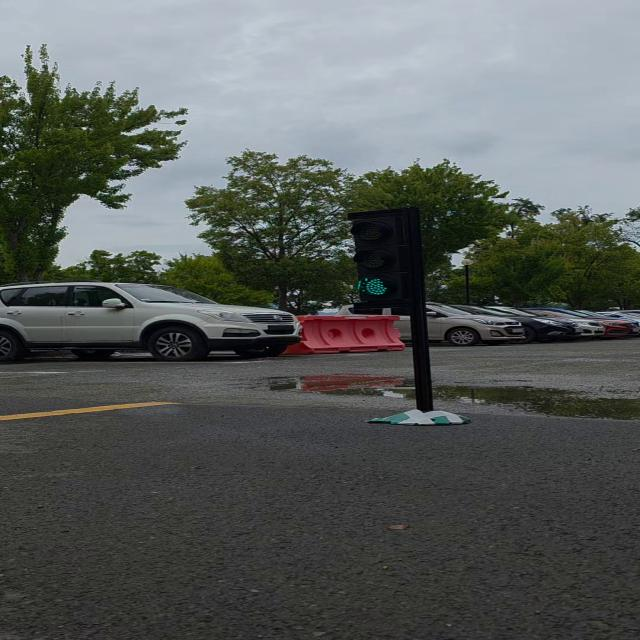green: (344, 208, 428, 309)
